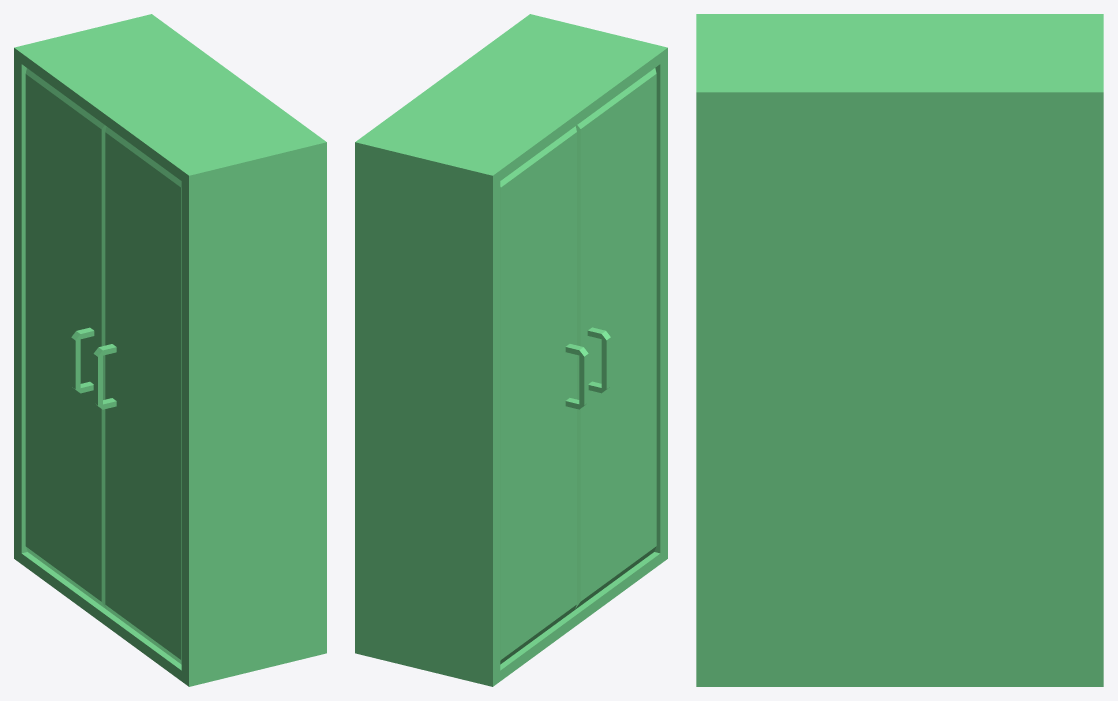
Rendered from Cabinent.fbx.
The picture shows the model from 3 angles, left to right: view 1: azimuth 30°, elevation 25°; view 2: azimuth 150°, elevation 25°; view 3: azimuth 270°, elevation 25°; orthographic projection. The views are drawn at different scales.
Parts seen in each view (by area): view 1: CabinentOpenable, CabinenctDoor1, CabinenctDoor2; view 2: CabinentOpenable, CabinenctDoor2, CabinenctDoor1; view 3: CabinentOpenable.
Part boxes in pixels (left/top/right/bottom): CabinentOpenable: left=14, top=14, right=326, bottom=686; CabinenctDoor1: left=25, top=68, right=107, bottom=609; CabinenctDoor2: left=93, top=126, right=181, bottom=664; CabinentOpenable: left=355, top=14, right=667, bottom=686; CabinenctDoor2: left=575, top=68, right=656, bottom=609; CabinenctDoor1: left=500, top=126, right=588, bottom=664; CabinentOpenable: left=696, top=14, right=1103, bottom=686.
Bounding box in the file's own units: 75.6 × 238 × 148.
